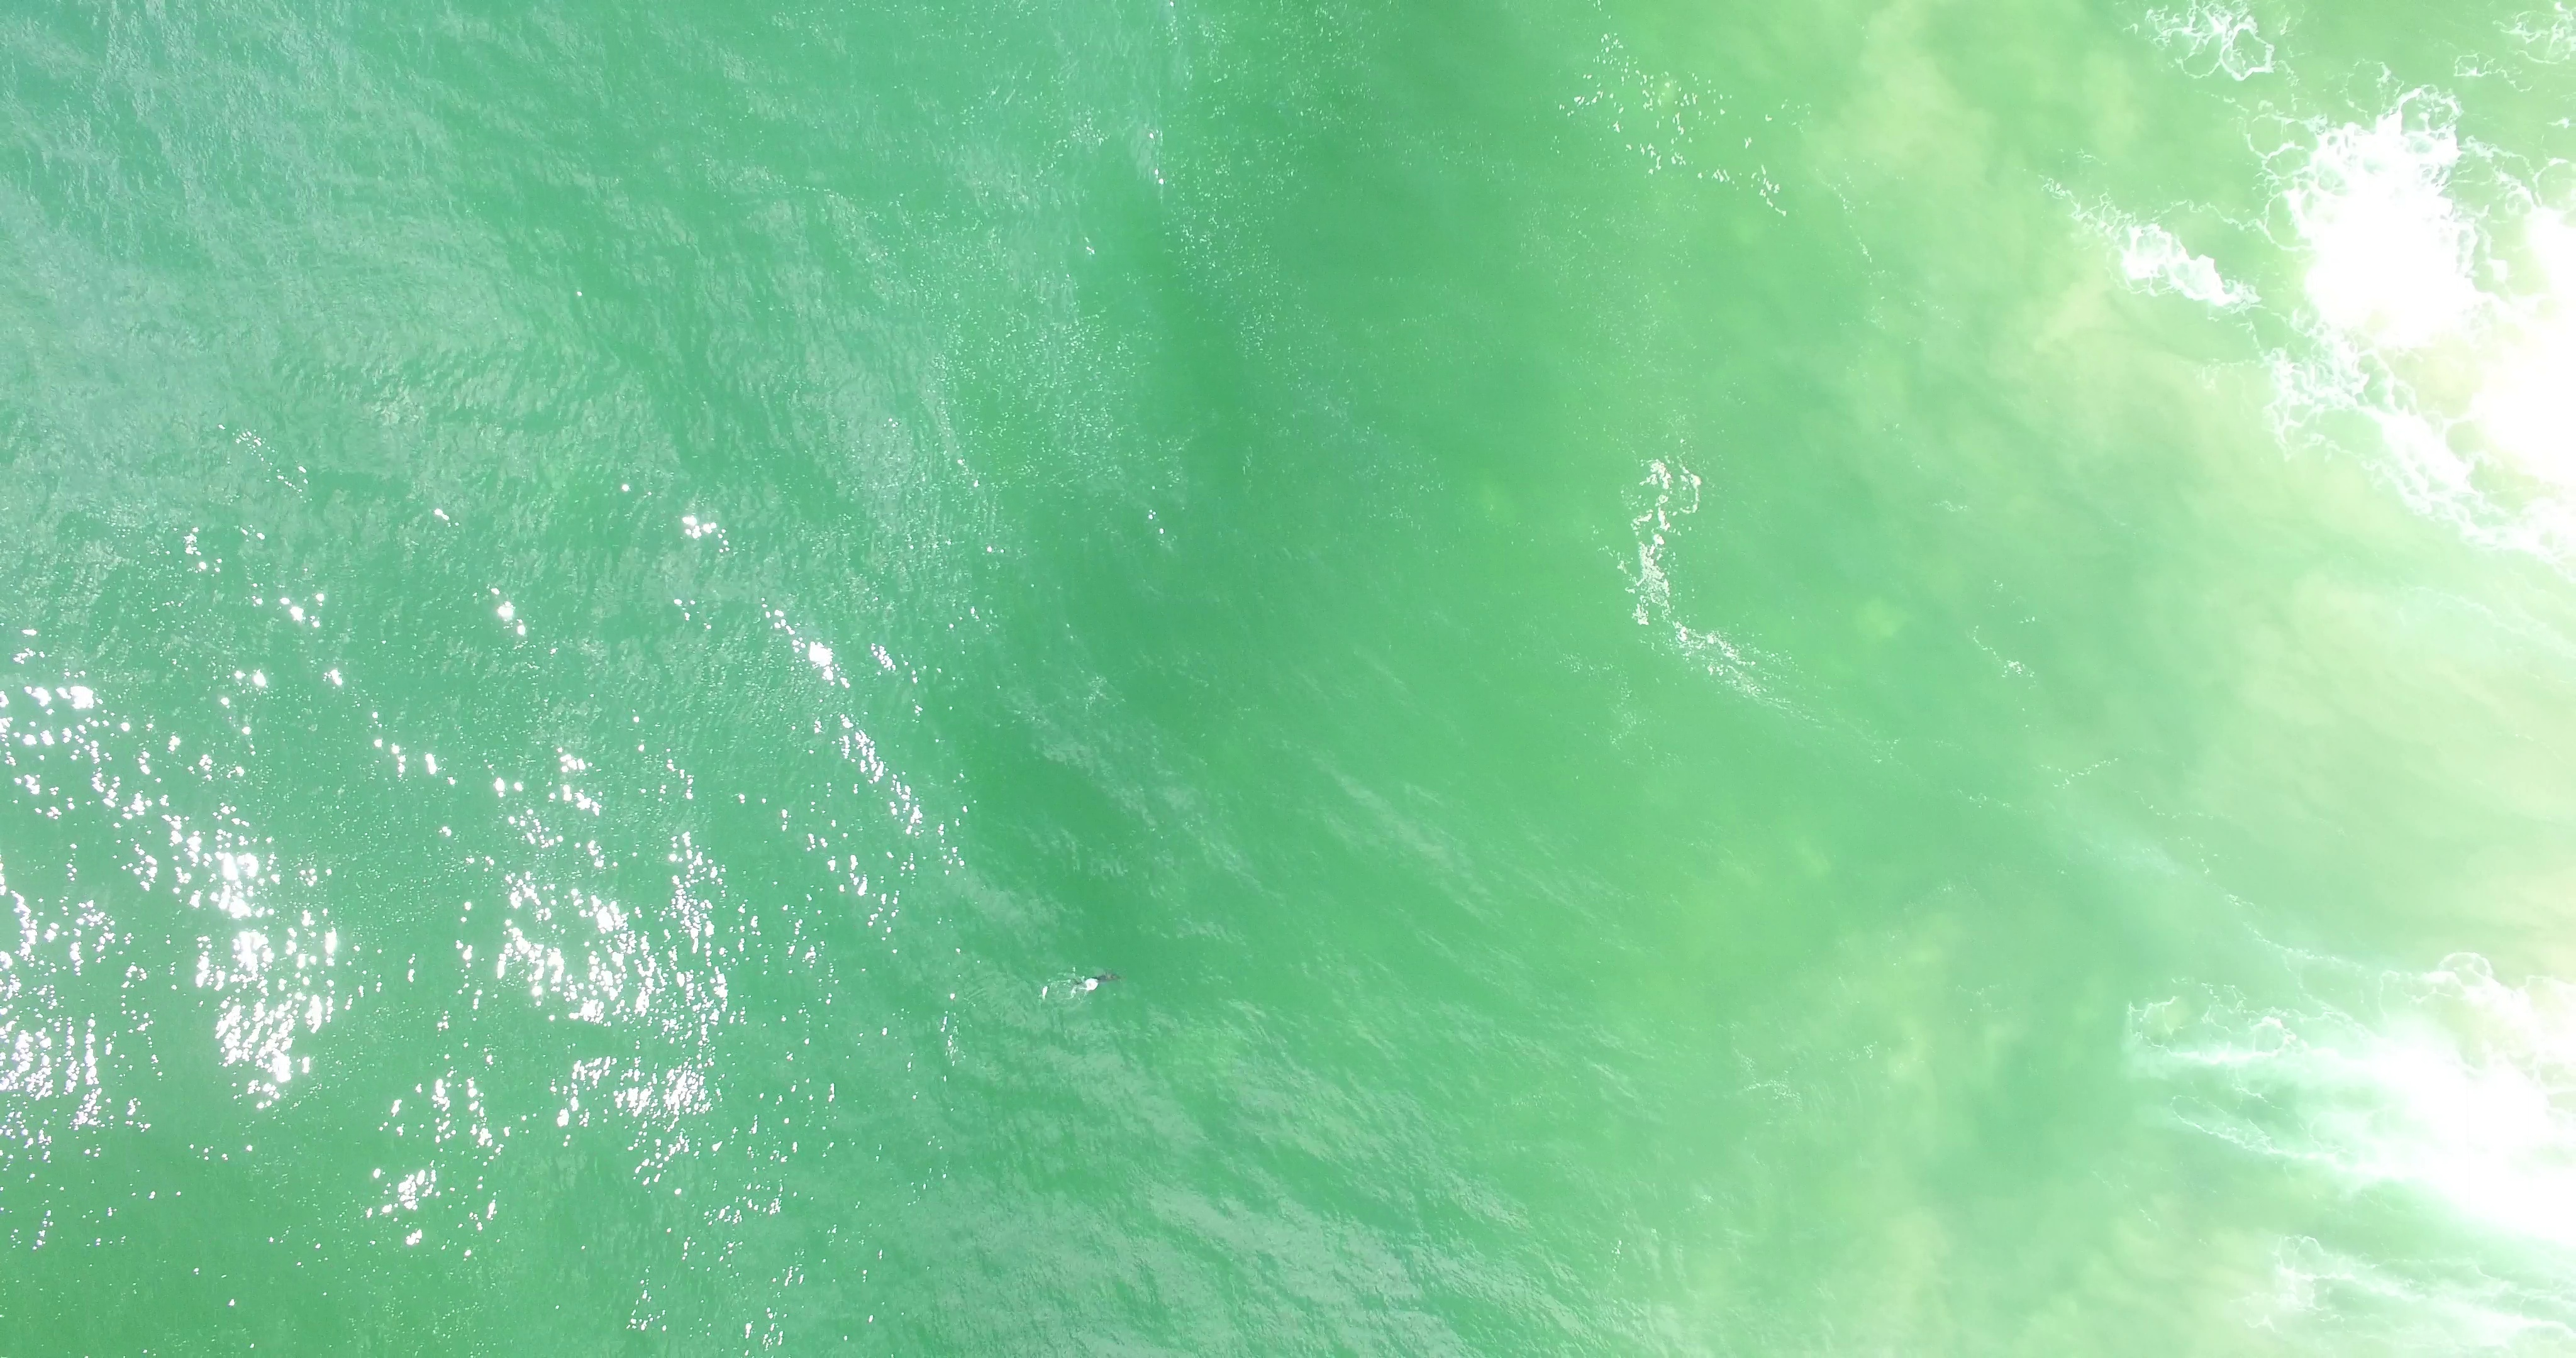dolphin: (1070, 970, 1119, 993)
